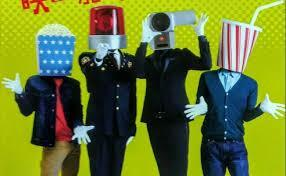no more kid: (143, 8, 199, 52)
